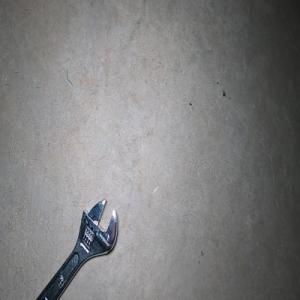Wrench: (36, 199, 117, 300)
